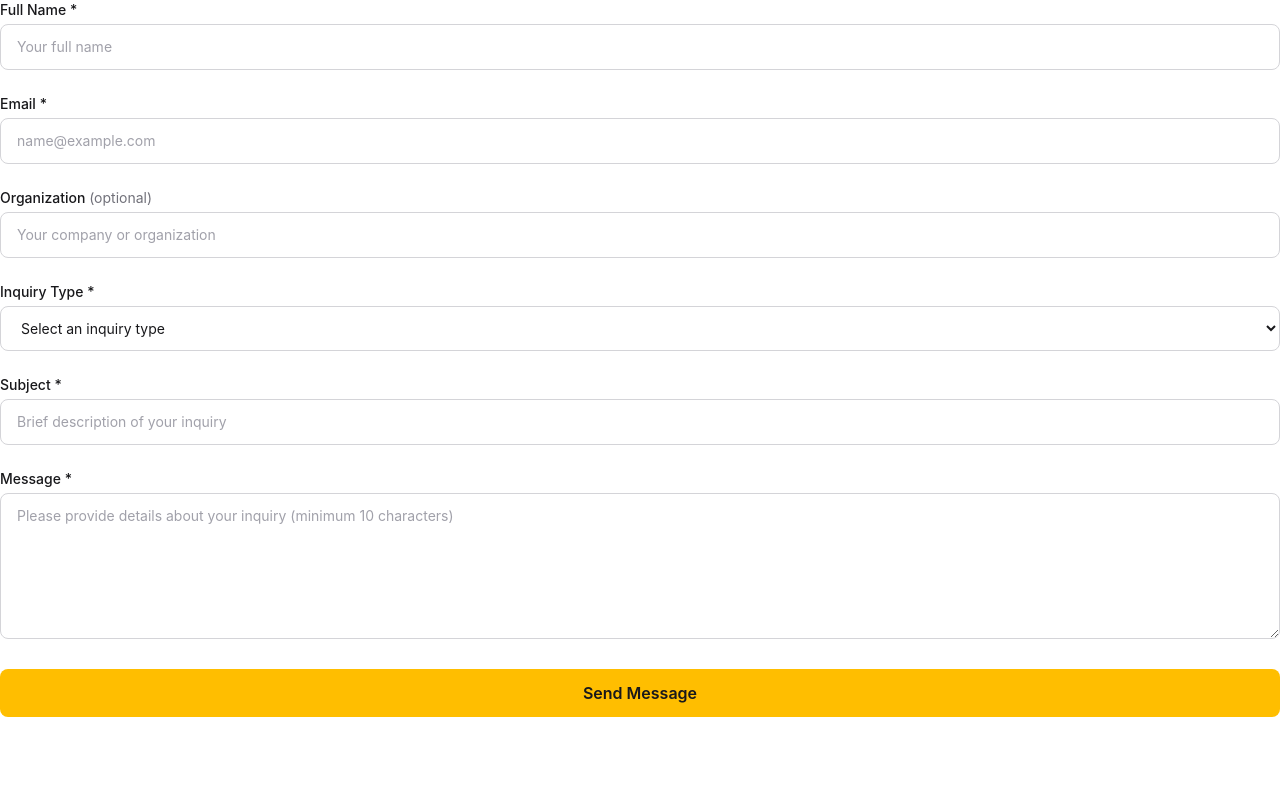
Test: validation › rejects an invalid email format
In the field labelled "Email *": {"x": 640, "y": 141} 0,118 -> 1279,164, type "not-an-email"
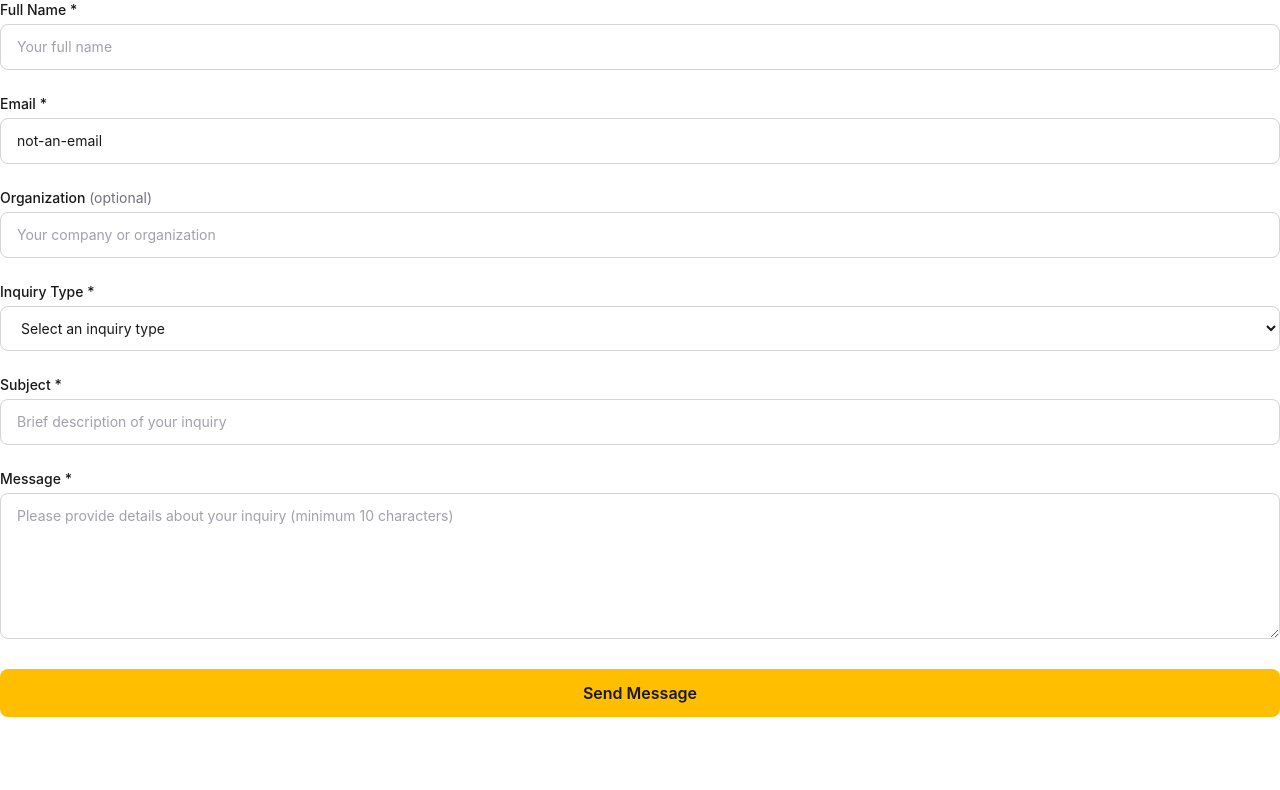
Click the button "Send Message": {"x": 640, "y": 693} 0,669 -> 1279,717
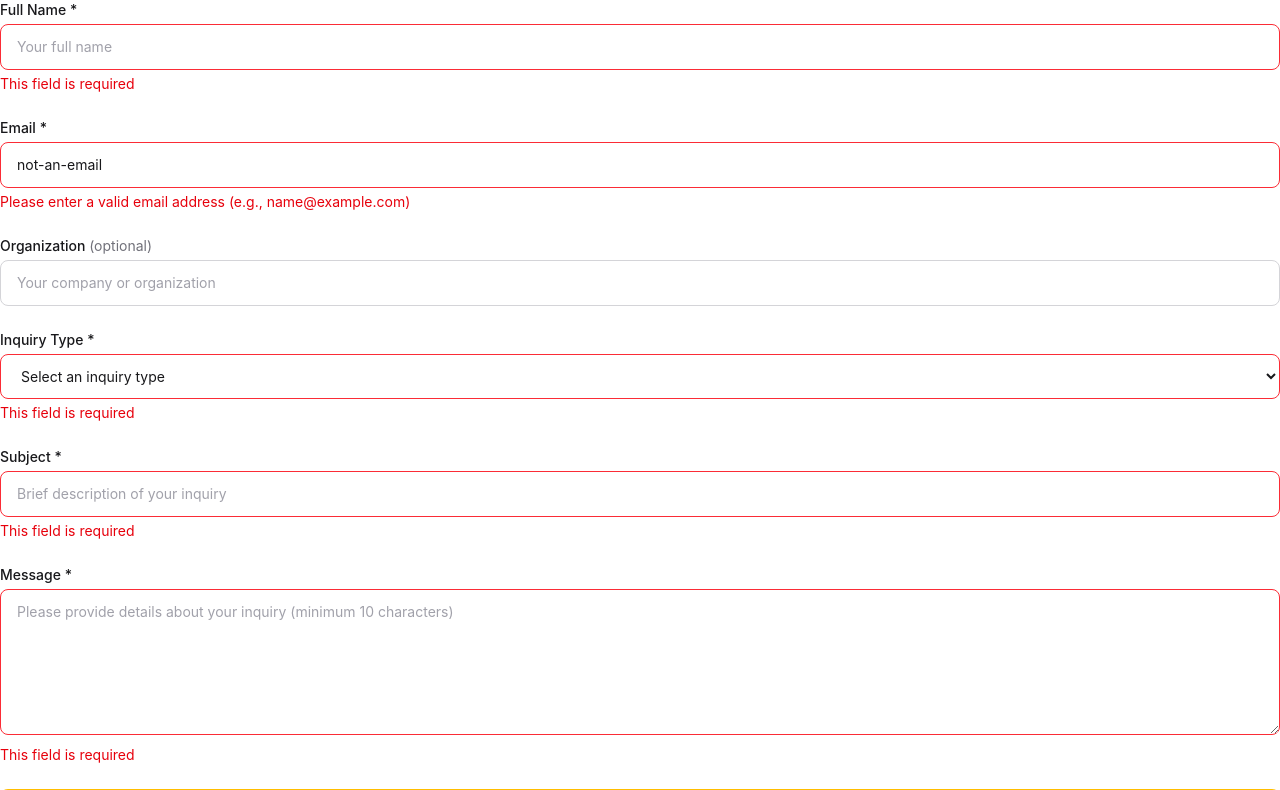
Check: the text "Please enter a valid email address (e.g., name@example.com)" is shown, box 0,193 -> 410,210
